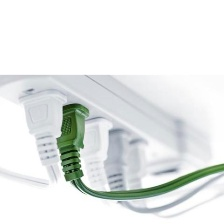three_eye_plug: (0, 69, 216, 191)
